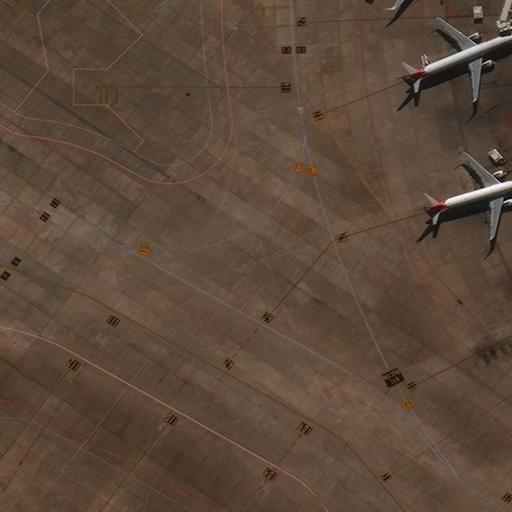Medium Civil Transport: (406, 17, 512, 97), (426, 152, 512, 236)
